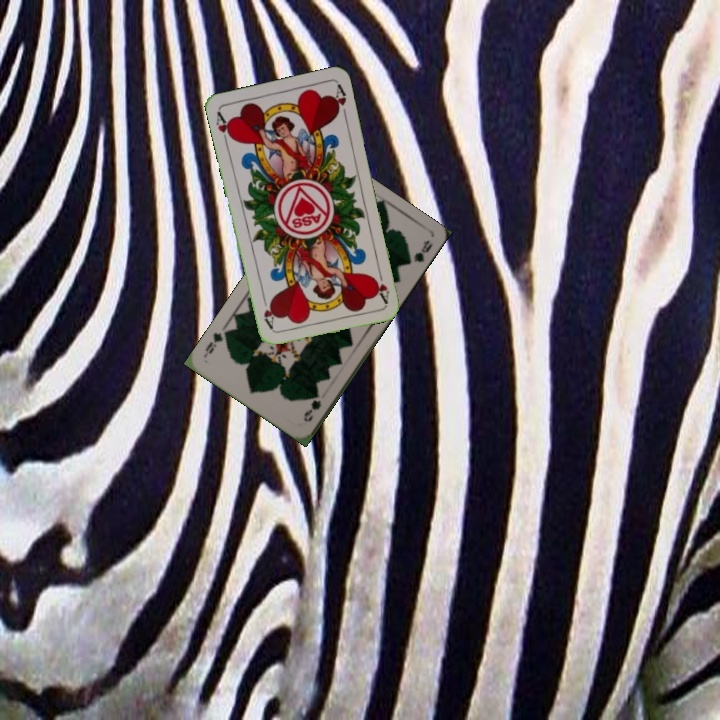G9: (299, 388, 324, 425)
HA: (212, 108, 236, 148), (371, 264, 392, 305)
